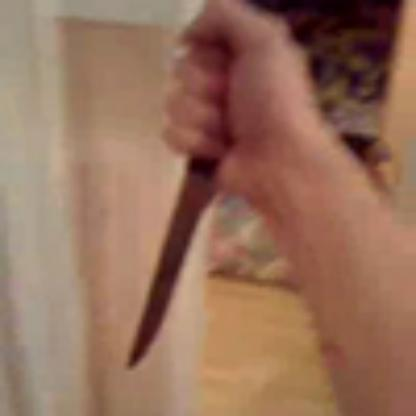knives: (120, 17, 236, 370)
